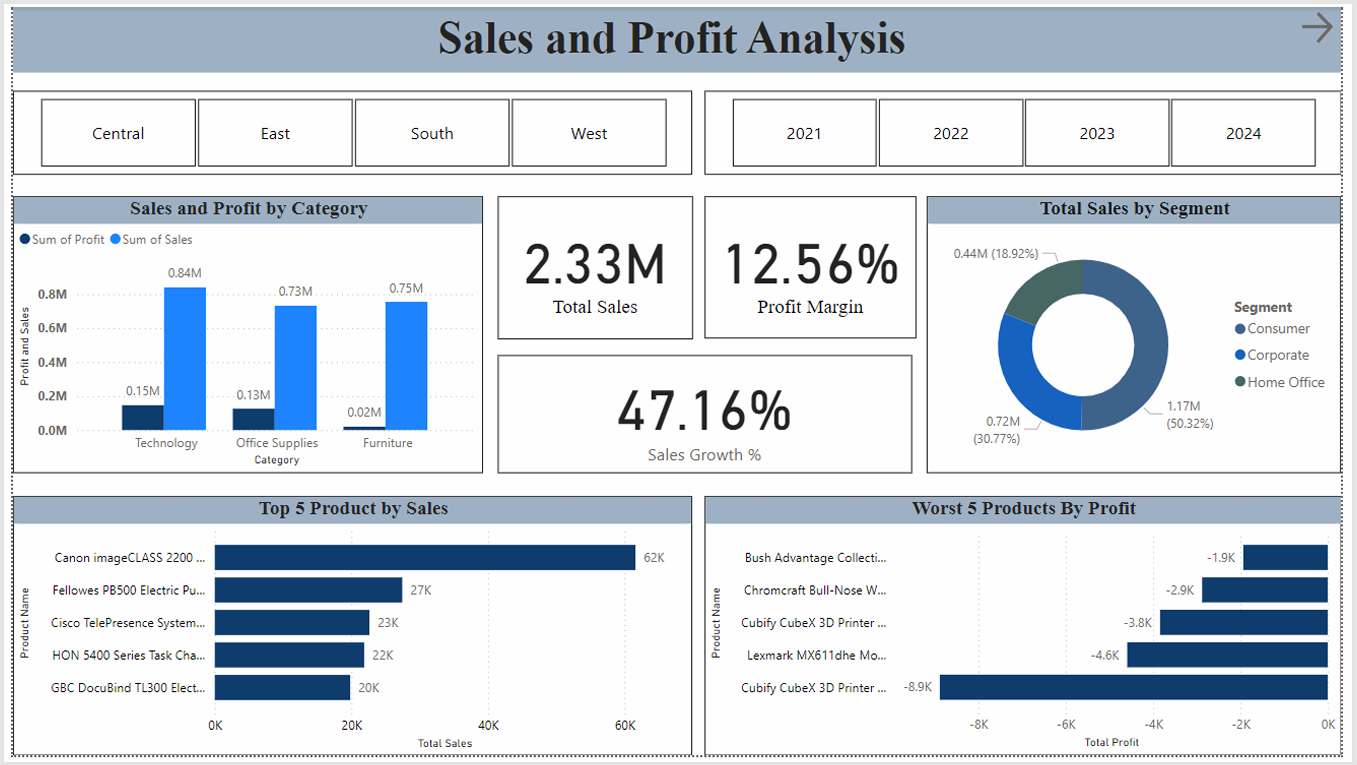

Layout of this report page (visuals, bound fields, positions):
{"tool":"powerbi","page":{"name":"Page 1","canvas":[1280,720],"ordinal":0},"visuals":[{"type":"card","fields":{"Values":["Orders.Total Sales"]},"box":[466.6,182.5,188,137.2],"z":0},{"type":"card","fields":{"Values":["Orders.Profit Margin"]},"box":[666.4,182.2,204.2,137],"z":1000},{"type":"clusteredColumnChart","title":"Sales and Profit by Category","fields":{"Category":["Orders.Category"],"Y":["Sum(Orders.Profit)","Sum(Orders.Sales)"]},"box":[0,182.5,452.8,266.2],"z":2000},{"type":"barChart","title":"Top 5 Product by Sales ","fields":{"Category":["Orders.Product Name"],"Y":["Orders.Total Sales"]},"box":[0,470.7,654.5,249.7],"z":3000},{"type":"barChart","title":"Worst 5 Products By Profit","fields":{"Y":["Orders.Total Profit"],"Category":["Orders.Product Name"]},"box":[666.4,470.8,613.9,249.5],"z":4000},{"type":"slicer","fields":{"Values":["Orders.Region"]},"box":[0,81,654.5,81],"z":5000},{"type":"slicer","fields":{"Values":["Orders.Order Date.Variation.Date Hierarchy.Year"]},"box":[666.4,80.7,613.9,80.7],"z":6000},{"type":"textbox","box":[0,0,1280.3,63.1],"z":7000},{"type":"donutChart","fields":{"Category":["Orders.Segment"],"Y":["Orders.Total Sales"]},"box":[881,182.5,399.3,266.2],"z":8000},{"type":"card","fields":{"Values":["Orders.Sales Growth %"]},"box":[466.6,334.8,399.3,113.9],"z":9000},{"type":"actionButton","box":[1236.4,0,43.9,39.8],"z":10000}]}

Visuals, with their boxes in screenshot pixels (x1, y1, x2, y2), scaled from the page's 1280x720 canvas onto the 1357x765 screenshot:
card - Orders.Total Sales: [495,194,694,340]
card - Orders.Profit Margin: [706,194,923,339]
"Sales and Profit by Category" clusteredColumnChart: [0,194,480,477]
"Top 5 Product by Sales " barChart: [0,500,694,764]
"Worst 5 Products By Profit" barChart: [706,500,1356,764]
slicer - Orders.Region: [0,86,694,172]
slicer - Orders.Order Date.Variation.Date Hierarchy.Year: [706,86,1356,171]
textbox: [0,0,1356,67]
donutChart - Orders.Segment x Orders.Total Sales: [934,194,1356,477]
card - Orders.Sales Growth %: [495,356,918,477]
actionButton: [1311,0,1356,42]
